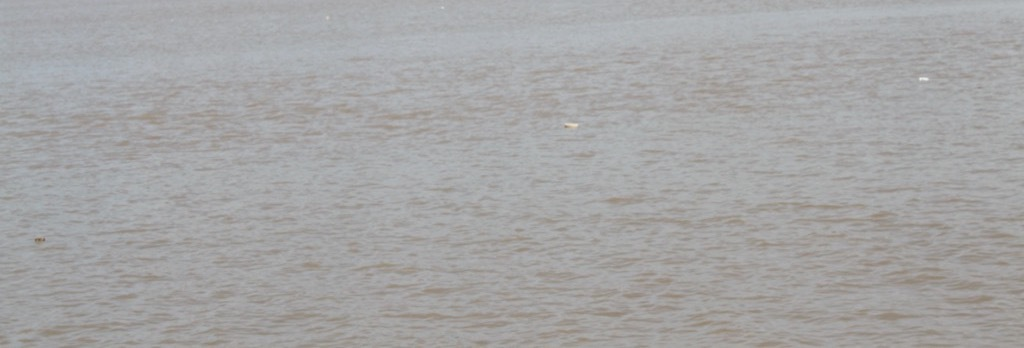plastic: (547, 107, 594, 142), (906, 66, 949, 97), (27, 230, 57, 249)
